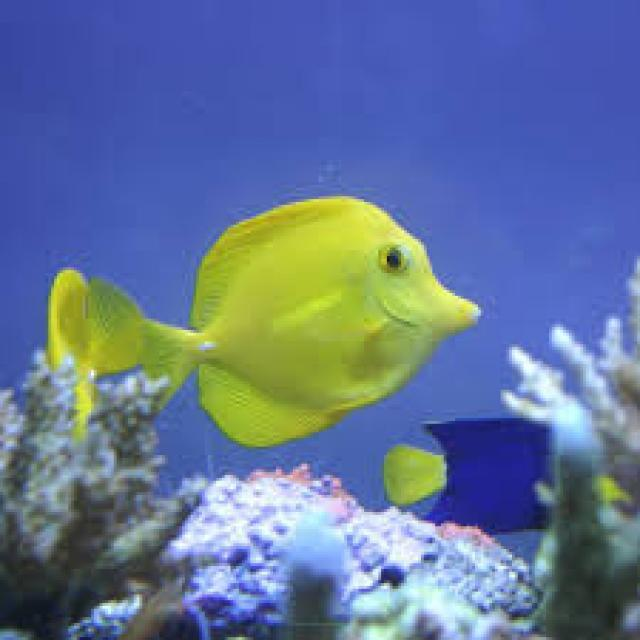YellowTang: (133, 183, 496, 456)
